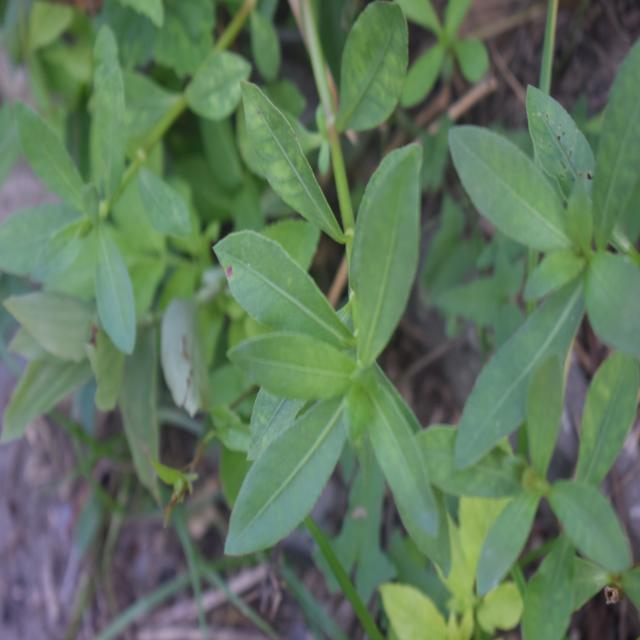Alligatorweed: (225, 119, 489, 547), (472, 70, 640, 427), (20, 35, 189, 379)
